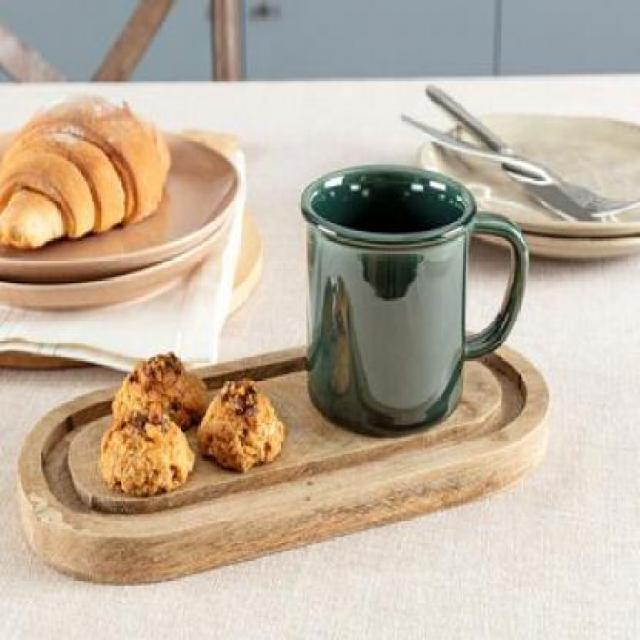taza: (294, 164, 528, 446)
